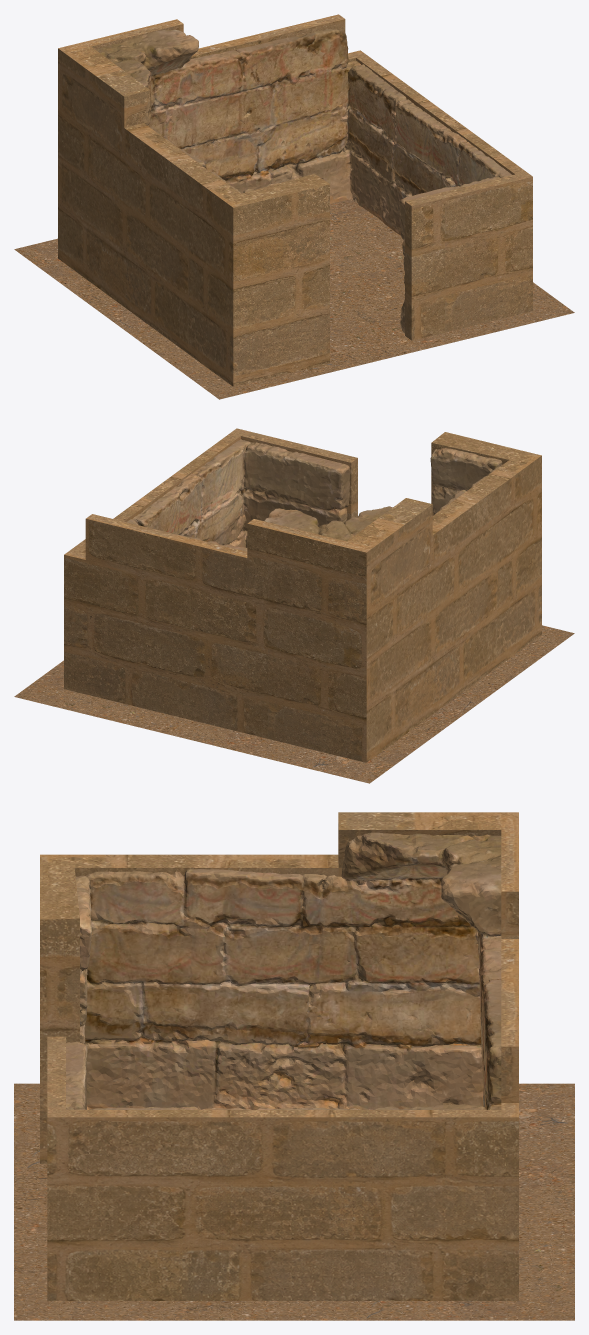
Rendered from Tomba_dama_ombrellino_v04.glb.
The picture shows the model from 3 angles, top to bottom: view 1: azimuth 30°, elevation 25°; view 2: azimuth 150°, elevation 25°; view 3: azimuth 270°, elevation 25°; orthographic projection. The views are drawn at different scales.
Visible parts, largest first — view 1: 立方体, Tomba sempli, Plane; view 2: 立方体, Tomba sempli, Plane; view 3: 立方体, Tomba sempli, Plane.
Boxes of the visible parts, left/top/right/bottom form: 立方体: left=58, top=14, right=532, bottom=386; Tomba sempli: left=96, top=29, right=511, bottom=333; Plane: left=14, top=199, right=574, bottom=399; 立方体: left=64, top=428, right=541, bottom=762; Tomba sempli: left=85, top=439, right=501, bottom=553; Plane: left=14, top=625, right=574, bottom=783; 立方体: left=40, top=812, right=518, bottom=1300; Tomba sempli: left=66, top=832, right=501, bottom=1109; Plane: left=14, top=1083, right=574, bottom=1320.
Bounding box in the file's own units: 3.76 × 2.13 × 3.76.
Materials: 3 (3 with a texture image).
